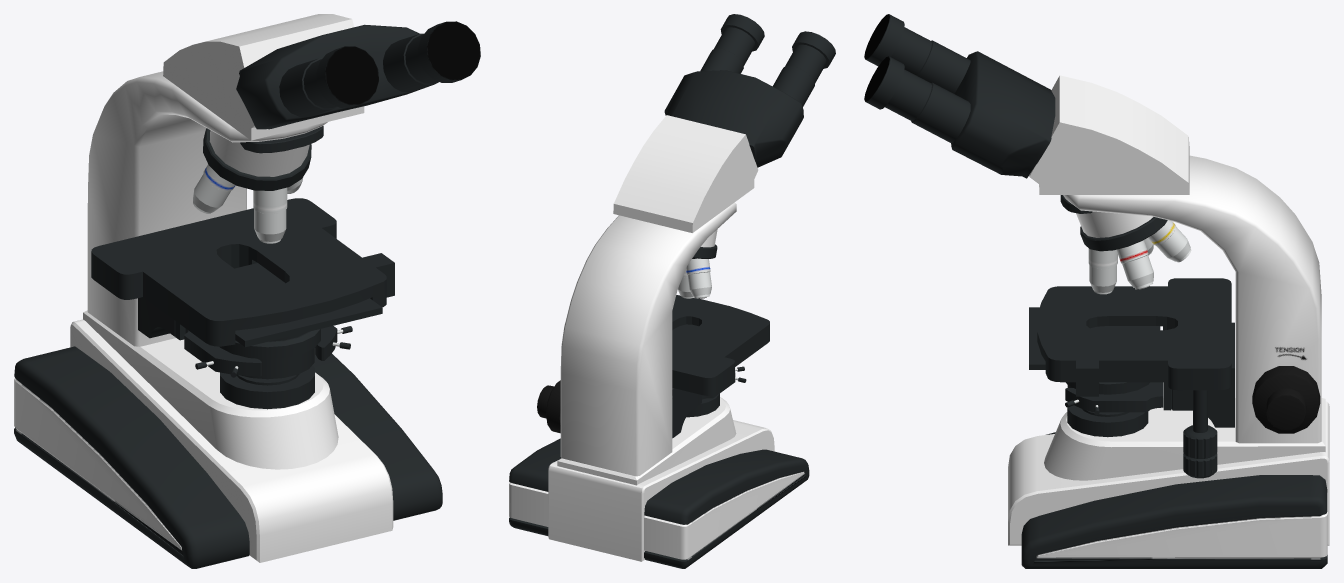
Rendered from microscope.glb.
3 renders of one model, left to right at view 1: azimuth 30°, elevation 25°; view 2: azimuth 150°, elevation 25°; view 3: azimuth 270°, elevation 25°, orthographic. The views are drawn at different scales.
Visible parts, largest first — view 1: Microscope_Microscope_0; view 2: Microscope_Microscope_0; view 3: Microscope_Microscope_0.
Boxes of the visible parts, x1,y1,x2,y2 form: Microscope_Microscope_0: (14,14,480,568); Microscope_Microscope_0: (509,14,835,568); Microscope_Microscope_0: (864,14,1329,568).
Size of the model in its own units: 0.7586 by 1.61 by 1.41.
Materials: 1 (1 with a texture image).
